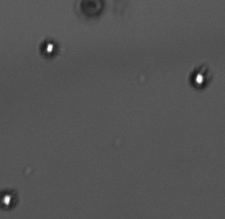Dead Cell: (78, 1, 102, 15)
Living Cell: (189, 69, 207, 90), (1, 191, 17, 209), (41, 38, 56, 56)
